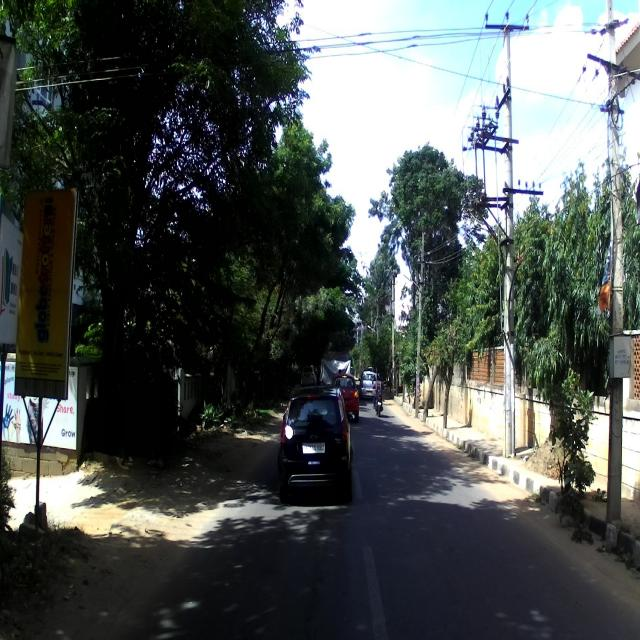Car: (359, 371, 378, 396)
Car_Ford: (273, 382, 352, 501)
Car_Maruti-Suzuki: (332, 372, 360, 421)
